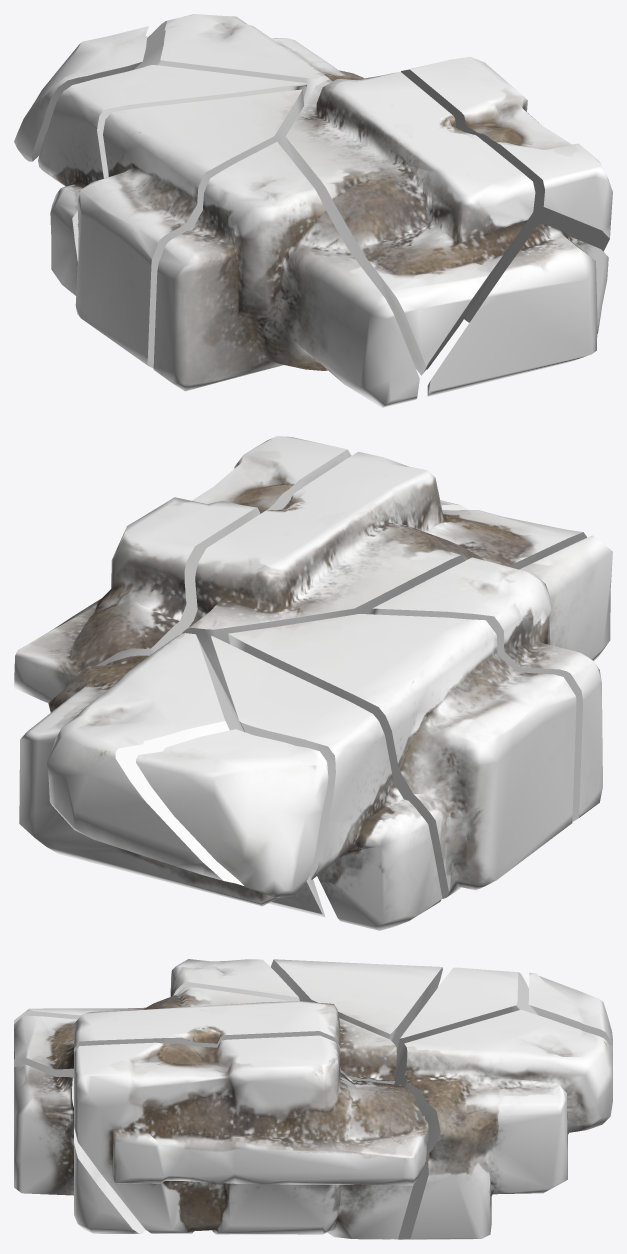
File: SM_MetalNode_4b_Pieces.fbx
3 views of the same model, one above another, from view 1: azimuth 30°, elevation 25°; view 2: azimuth 150°, elevation 25°; view 3: azimuth 270°, elevation 25° (orthographic). The views are drawn at different scales.
Visible parts, largest first — view 1: SM_MetalNode_4b_Pieces_cell_3, SM_MetalNode_4b_Pieces_cell_5, SM_MetalNode_4b_Pieces_cell_1, SM_MetalNode_4b_Pieces_cell_7, SM_MetalNode_4b_Pieces_cell_8, SM_MetalNode_4b_Pieces_cell_2, SM_MetalNode_4b_Pieces_cell_6, SM_MetalNode_4b_Pieces_cell_4; view 2: SM_MetalNode_4b_Pieces_cell_1, SM_MetalNode_4b_Pieces_cell_5, SM_MetalNode_4b_Pieces_cell_6, SM_MetalNode_4b_Pieces_cell_2, SM_MetalNode_4b_Pieces_cell_8, SM_MetalNode_4b_Pieces_cell_3, SM_MetalNode_4b_Pieces_cell_4; view 3: SM_MetalNode_4b_Pieces_cell_8, SM_MetalNode_4b_Pieces_cell_6, SM_MetalNode_4b_Pieces_cell_5, SM_MetalNode_4b_Pieces_cell_7, SM_MetalNode_4b_Pieces_cell_1, SM_MetalNode_4b_Pieces_cell_2, SM_MetalNode_4b_Pieces_cell_3, SM_MetalNode_4b_Pieces_cell_4.
Part boxes in pixels (<box>): SM_MetalNode_4b_Pieces_cell_3: <box>153,142,419,407</box>; SM_MetalNode_4b_Pieces_cell_5: <box>285,72,535,375</box>; SM_MetalNode_4b_Pieces_cell_1: <box>75,89,304,368</box>; SM_MetalNode_4b_Pieces_cell_7: <box>427,223,608,396</box>; SM_MetalNode_4b_Pieces_cell_8: <box>401,57,612,322</box>; SM_MetalNode_4b_Pieces_cell_2: <box>38,65,307,295</box>; SM_MetalNode_4b_Pieces_cell_6: <box>134,14,363,105</box>; SM_MetalNode_4b_Pieces_cell_4: <box>14,26,148,161</box>; SM_MetalNode_4b_Pieces_cell_1: <box>228,614,576,898</box>; SM_MetalNode_4b_Pieces_cell_5: <box>182,451,586,712</box>; SM_MetalNode_4b_Pieces_cell_6: <box>19,633,325,917</box>; SM_MetalNode_4b_Pieces_cell_2: <box>211,636,442,930</box>; SM_MetalNode_4b_Pieces_cell_8: <box>14,436,351,702</box>; SM_MetalNode_4b_Pieces_cell_3: <box>369,535,612,821</box>; SM_MetalNode_4b_Pieces_cell_4: <box>136,729,328,897</box>; SM_MetalNode_4b_Pieces_cell_8: <box>74,1035,428,1239</box>; SM_MetalNode_4b_Pieces_cell_6: <box>393,1009,612,1239</box>; SM_MetalNode_4b_Pieces_cell_5: <box>14,987,396,1084</box>; SM_MetalNode_4b_Pieces_cell_7: <box>14,1064,145,1233</box>; SM_MetalNode_4b_Pieces_cell_1: <box>271,959,442,1051</box>; SM_MetalNode_4b_Pieces_cell_2: <box>396,967,536,1058</box>; SM_MetalNode_4b_Pieces_cell_3: <box>14,959,299,1023</box>; SM_MetalNode_4b_Pieces_cell_4: <box>528,972,612,1052</box>.
Bounding box in the file's own units: 0.8493 × 0.4308 × 1.2.
